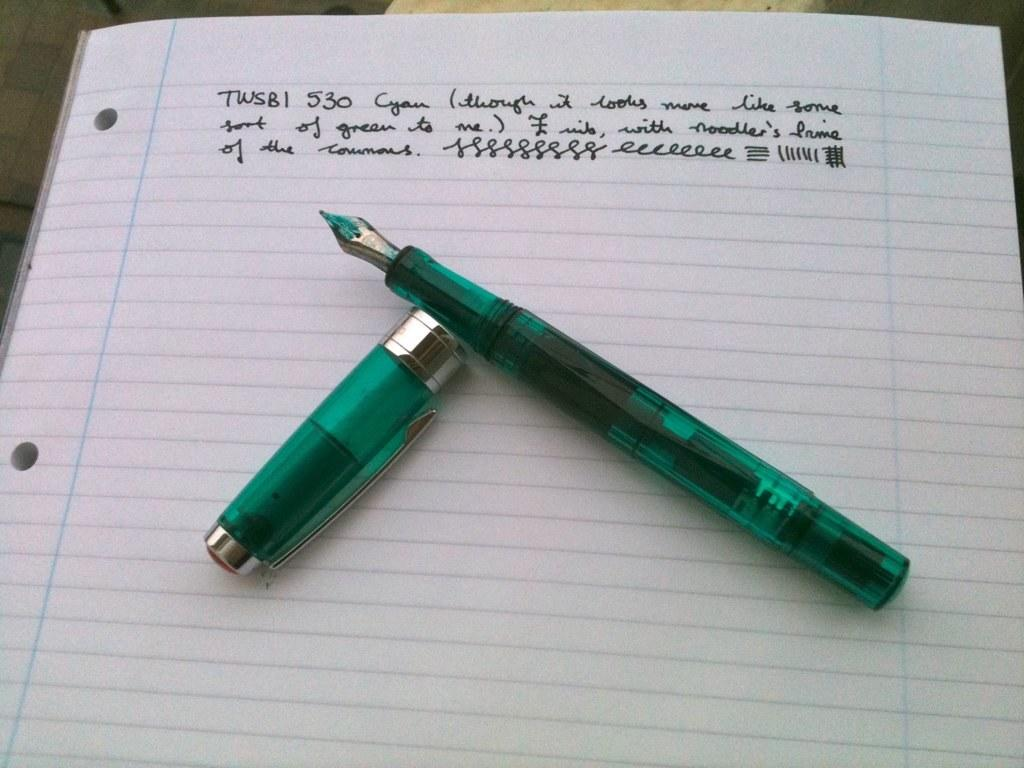pen: (318, 212, 909, 610)
